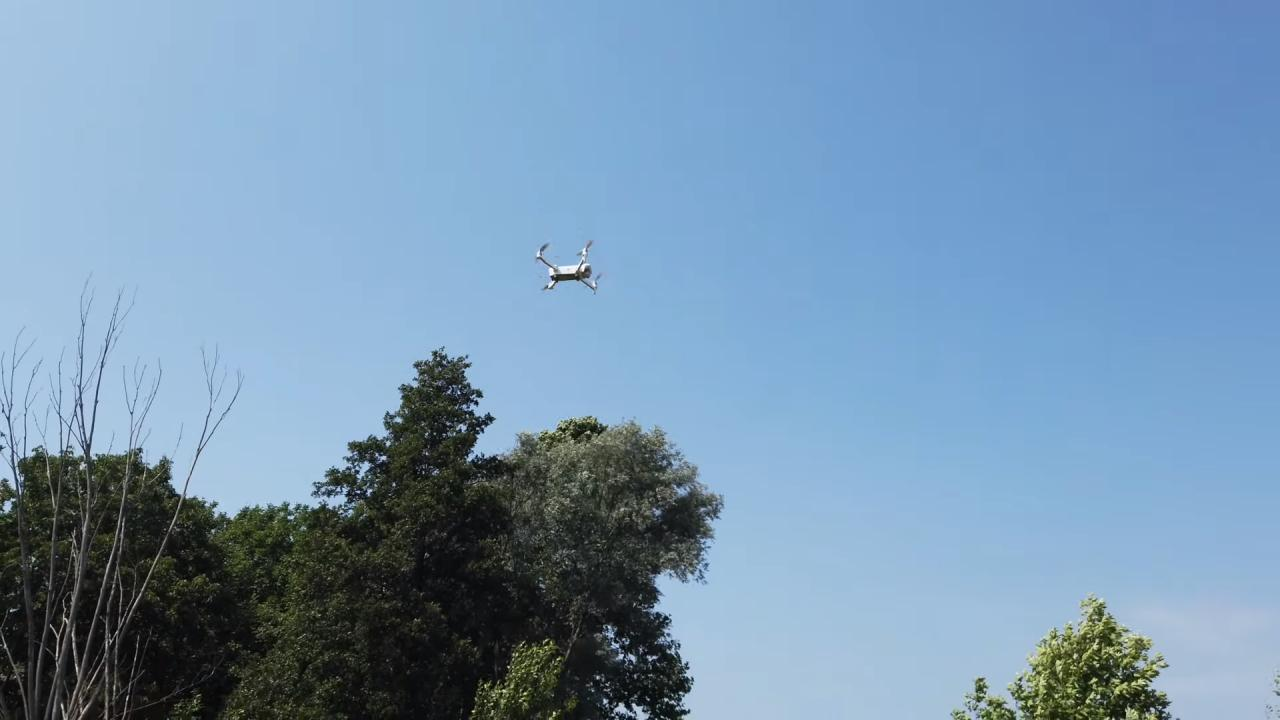Drone: (526, 230, 611, 306)
